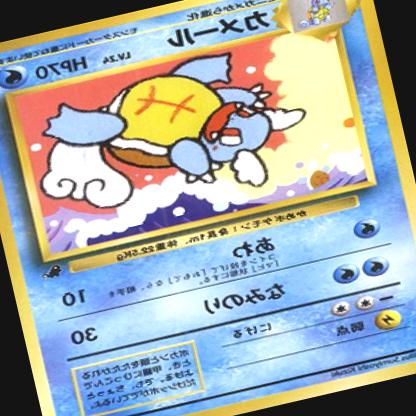Wartortle: (26, 37, 319, 230)
